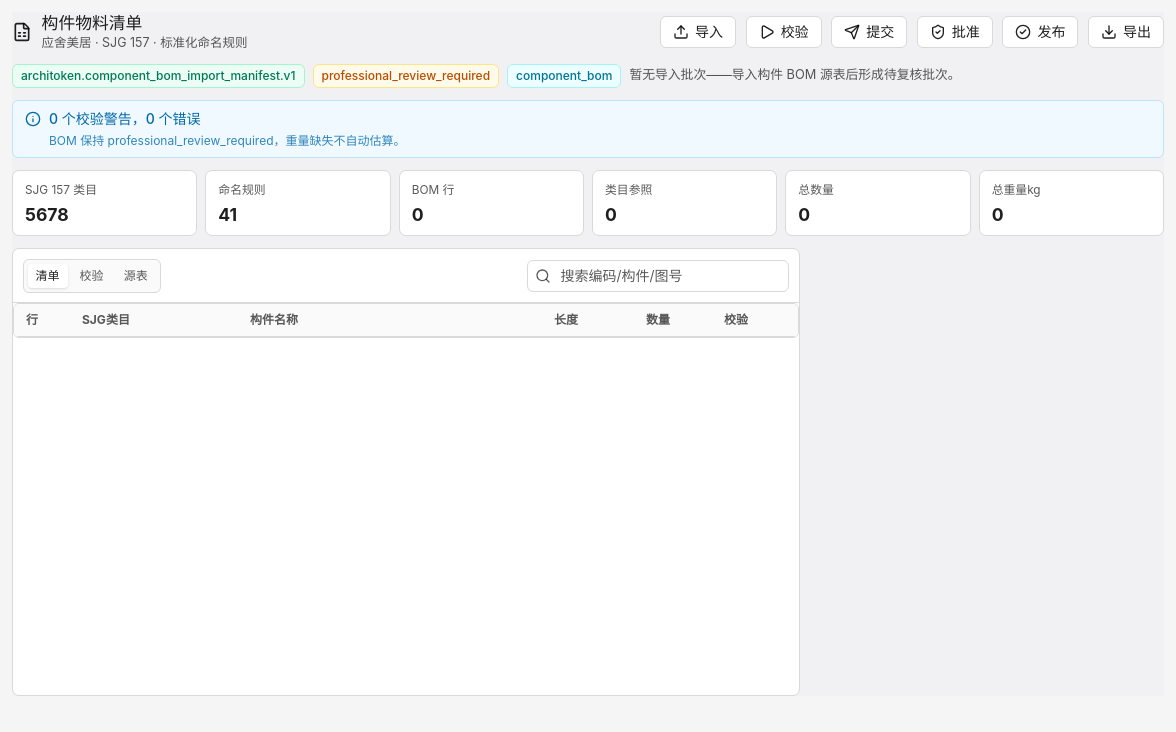
ComponentBomWorkbench › shows source workbook evidence and blocks publish before approval
Step 1. Click the button "源表" → click(136, 276), box [116,264,156,288]
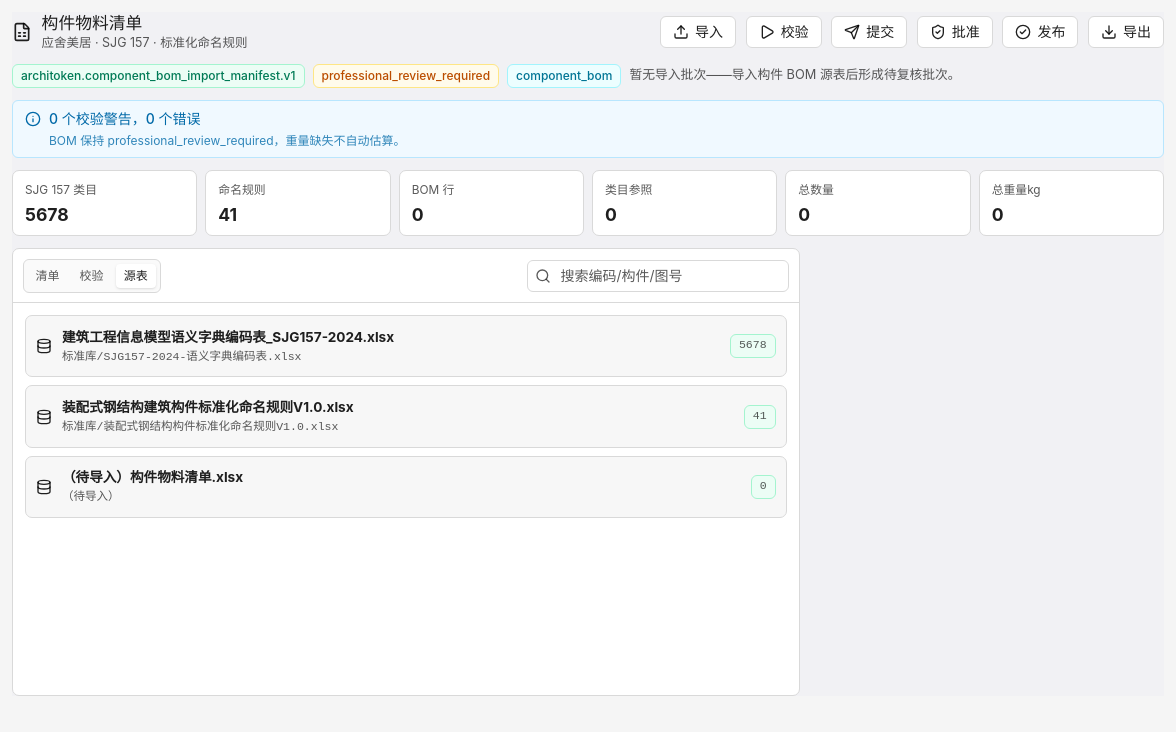
Expected: the text "建筑工程信息模型语义字典编码表_SJG157-2024.xlsx" is shown, [62,329,394,345]
Expected: the text "装配式钢结构建筑构件标准化命名规则V1.0.xlsx" is shown, [62,399,354,415]
Expected: the text "（待导入）构件物料清单.xlsx" is shown, [62,469,243,485]
Step 2. Click the button "发布" → click(1040, 32), box [1002,16,1078,48]
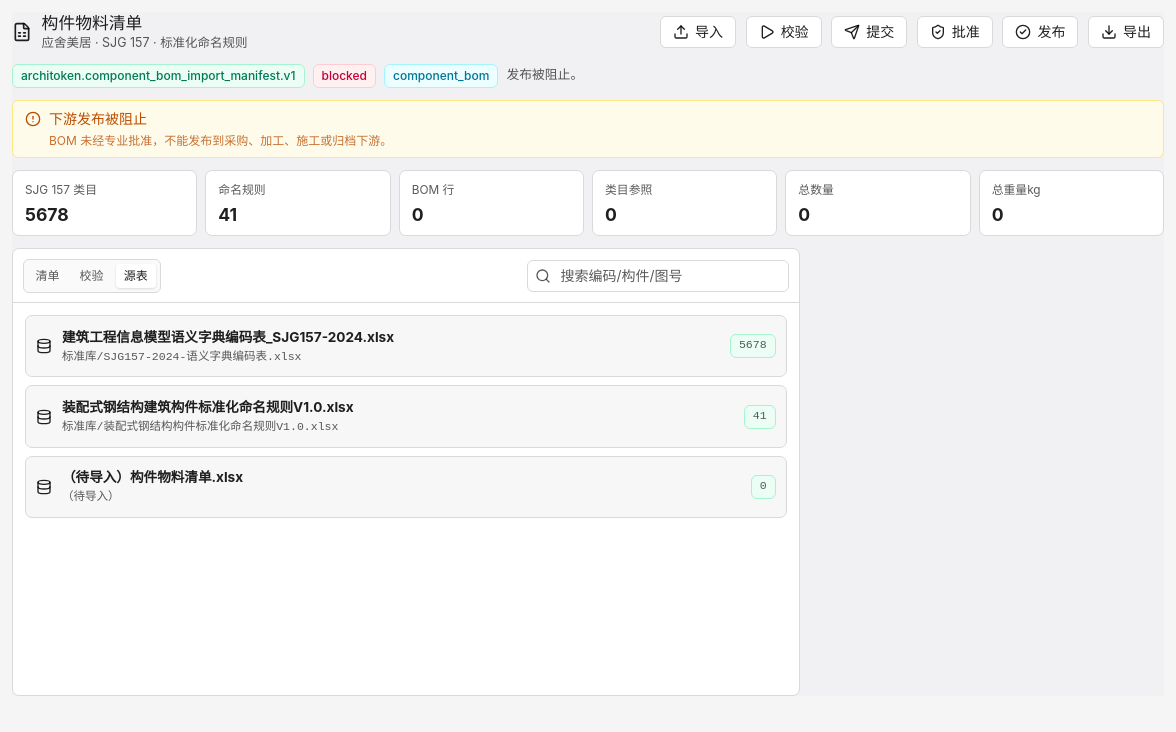
Expected: the text "下游发布被阻止" is shown, [49,110,147,126]
Expected: the text "BOM 未经专业批准，不能发布到采购、加工、施工或归档下游。" is shown, [49,132,392,148]
